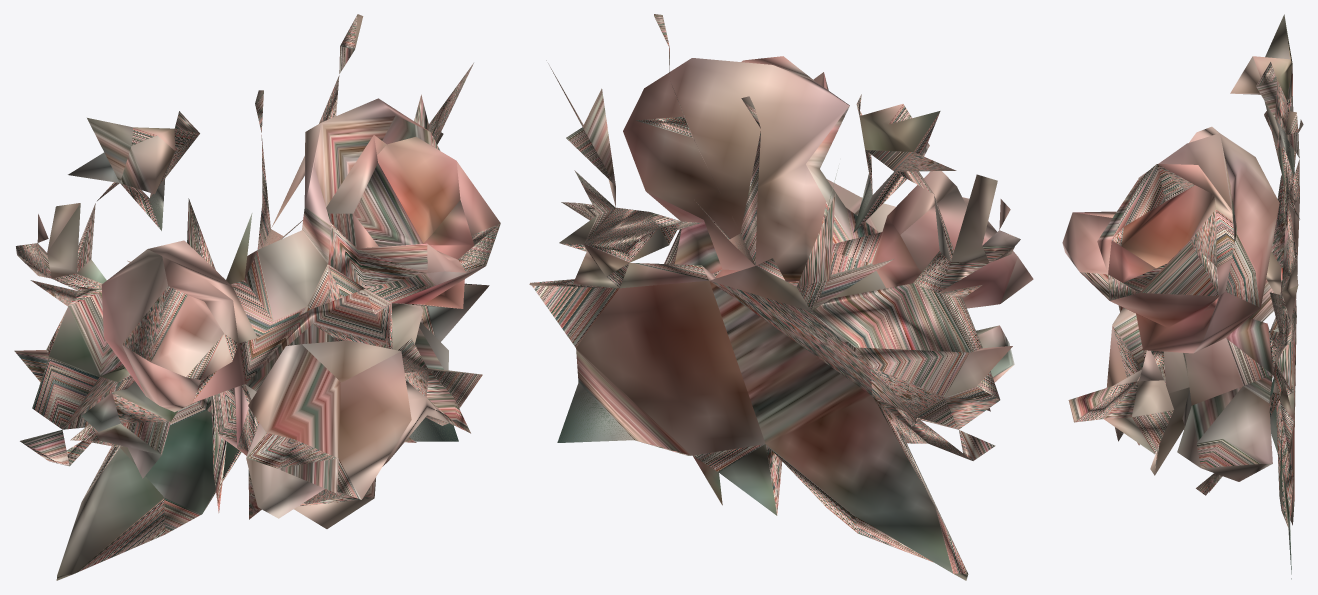
3 renders of one model, left to right at view 1: azimuth 30°, elevation 25°; view 2: azimuth 150°, elevation 25°; view 3: azimuth 270°, elevation 25°, orthographic. The views are drawn at different scales.
Parts seen in each view (by area): view 1: Rose-Bouquet-9-04; view 2: Rose-Bouquet-9-04; view 3: Rose-Bouquet-9-04.
Boxes of the visible parts, x1,y1,x2,y2 form: Rose-Bouquet-9-04: (14,14,500,580); Rose-Bouquet-9-04: (529,14,1033,580); Rose-Bouquet-9-04: (1062,14,1303,579).
Size of the model in its own units: 0.2794 by 0.2728 by 0.1295.
Materials: 1 (1 with a texture image).
